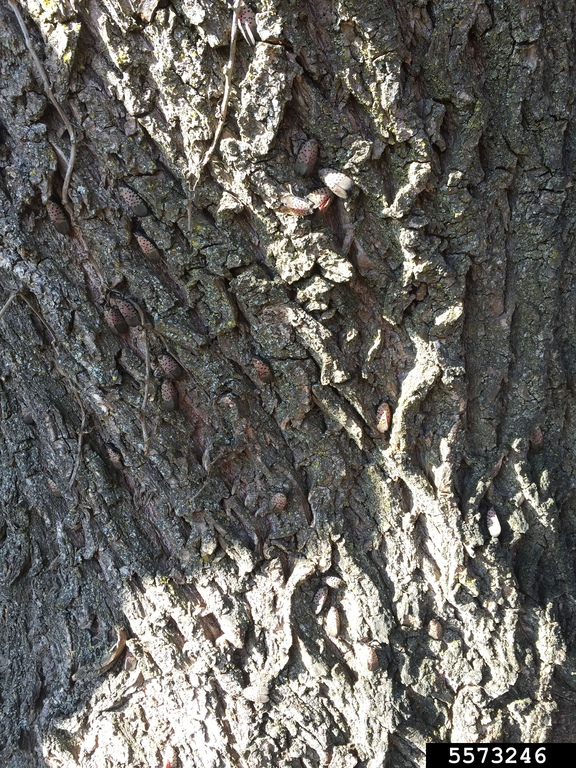adult: (124, 172, 172, 198), (326, 156, 368, 184), (306, 129, 329, 179), (99, 436, 126, 474), (43, 195, 68, 236), (233, 0, 263, 33), (359, 640, 386, 674), (133, 230, 160, 263), (274, 193, 313, 215), (238, 360, 262, 393), (90, 311, 113, 345), (482, 499, 501, 540), (307, 189, 337, 214), (122, 288, 160, 307), (321, 606, 344, 636), (157, 382, 178, 410), (148, 360, 166, 391), (424, 610, 442, 640), (374, 400, 390, 431), (313, 587, 331, 614), (329, 566, 355, 583), (267, 493, 286, 515), (534, 424, 542, 452)
